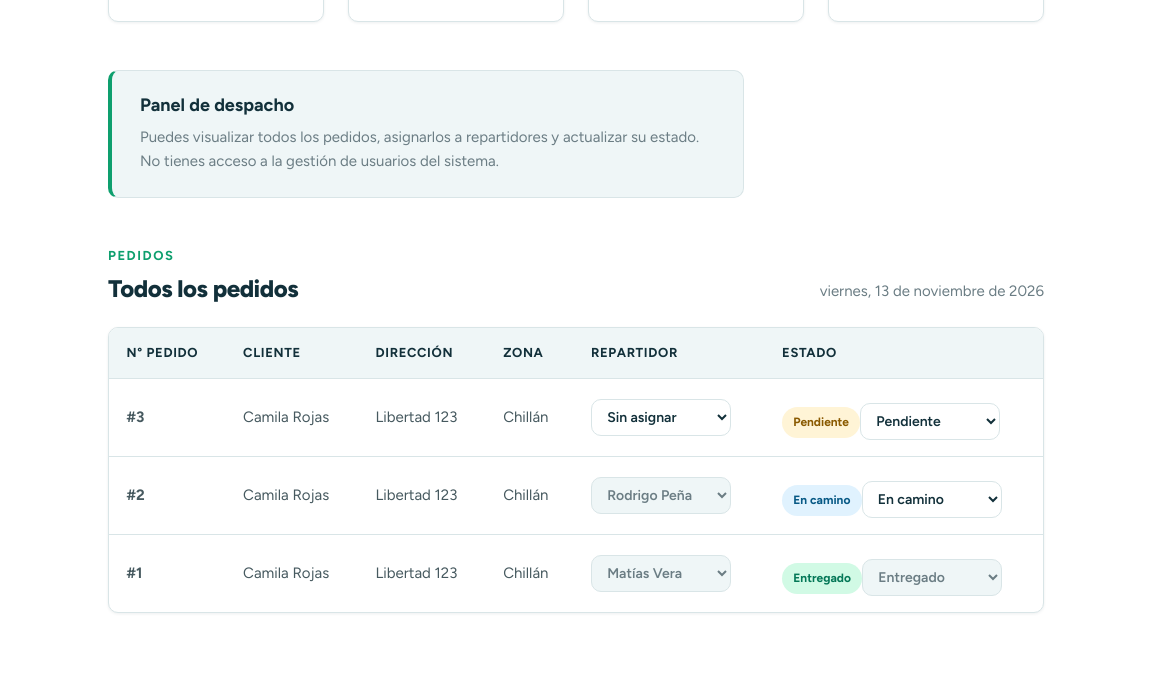
Scenario: Panel de despachadora › cancela un pedido pendiente por /anulacion
The image size is (1152, 693).
(page scrolled)
Select "Cancelado" in the dropdown named "Cambiar estado del pedido 3" at (930, 421), box [860,403,1000,440]
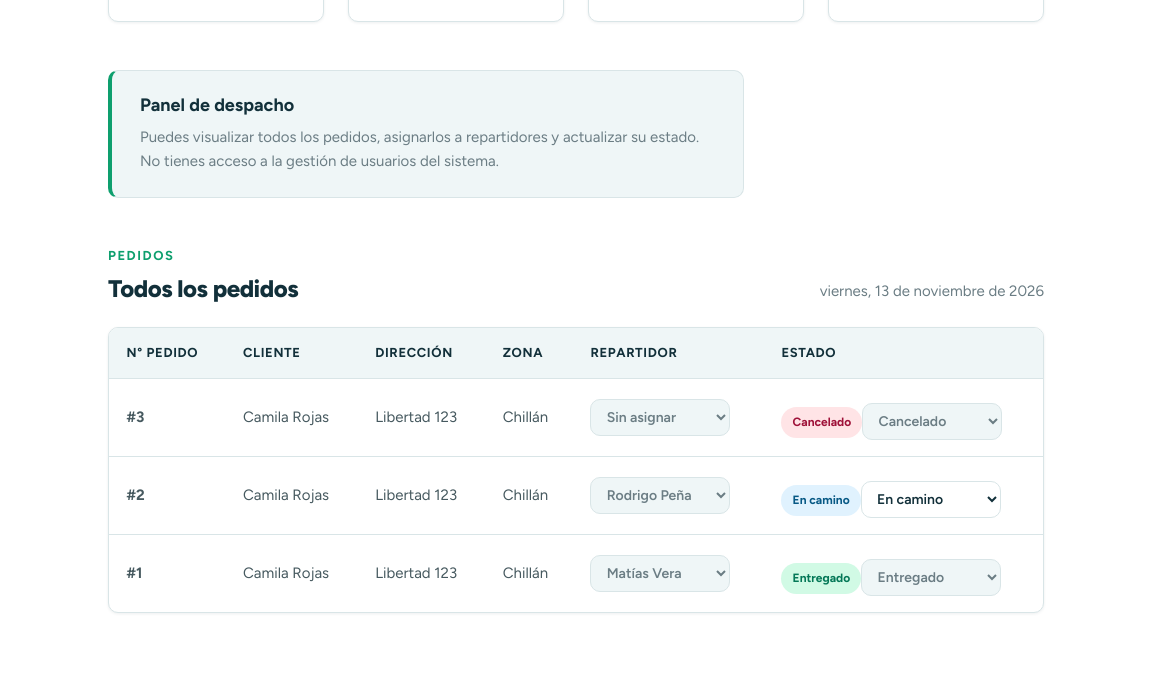
expect the text "Cancelado" is shown: met, box [781,407,862,438]
